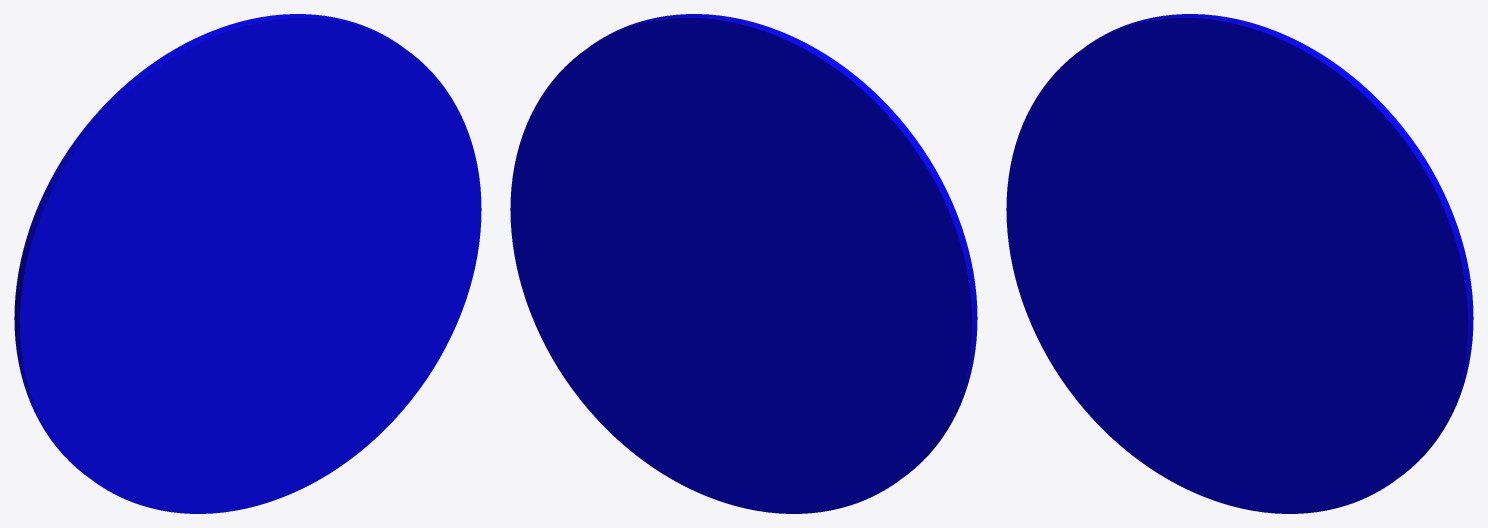
File: disc.obj
The picture shows the model from 3 angles, left to right: view 1: azimuth 30°, elevation 25°; view 2: azimuth 150°, elevation 25°; view 3: azimuth 330°, elevation 25°; orthographic projection.
Visible parts, largest first — view 1: 1; view 2: 1; view 3: 1.
Part boxes in pixels (x1,y1,x2,y2): 1: (14, 14, 481, 513); 1: (510, 14, 977, 513); 1: (1006, 14, 1473, 513).
Bounding box in the file's own units: 10 × 10 × 0.2.
